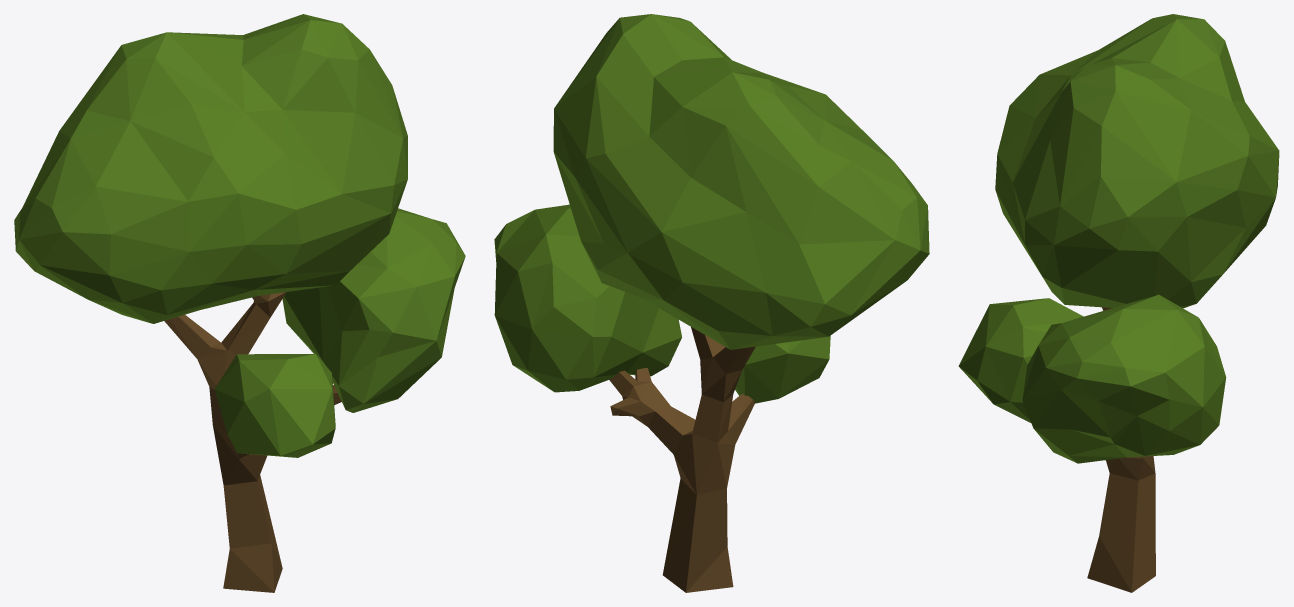
The picture shows the model from 3 angles, left to right: view 1: azimuth 30°, elevation 25°; view 2: azimuth 150°, elevation 25°; view 3: azimuth 270°, elevation 25°; orthographic projection. The views are drawn at different scales.
Visible parts, largest first — view 1: Tree1_1; view 2: Tree1_1; view 3: Tree1_1.
Part boxes in pixels (x1,y1,x2,y2): Tree1_1: (14, 14, 465, 592); Tree1_1: (494, 14, 929, 592); Tree1_1: (958, 14, 1279, 592).
Size of the model in its own units: 6 by 7.34 by 3.97.
